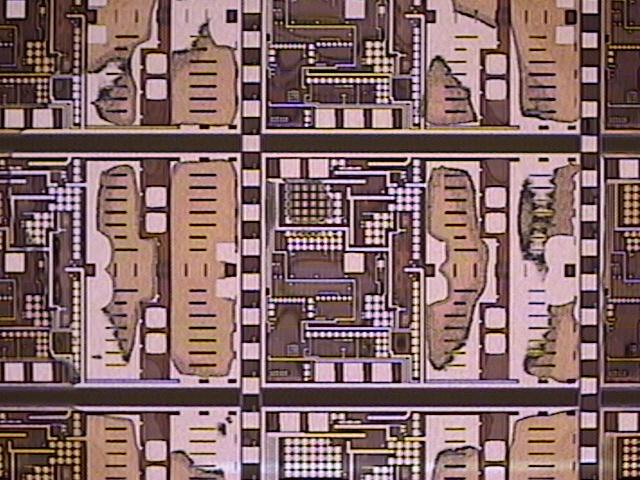COATING BAD: (1, 1, 590, 480)
